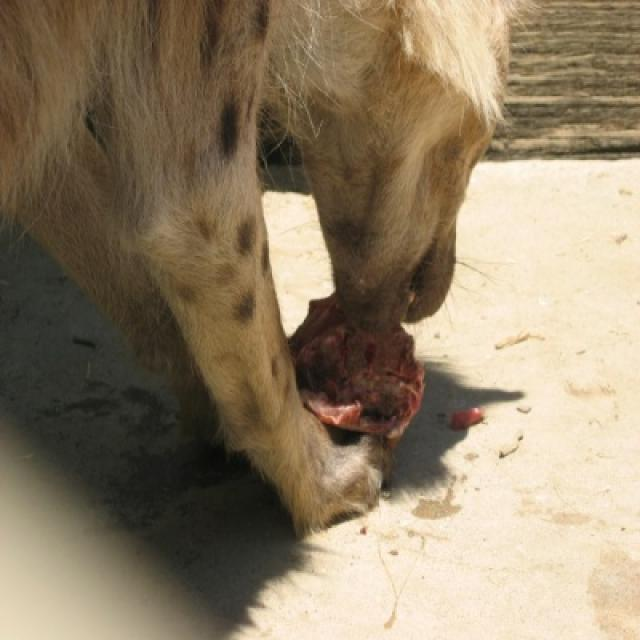hyena: (0, 0, 528, 542)
